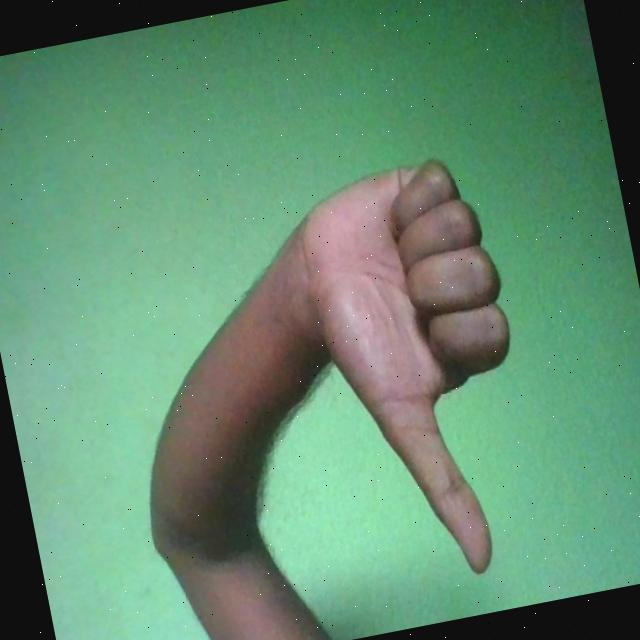Dislike: (286, 150, 556, 598)
